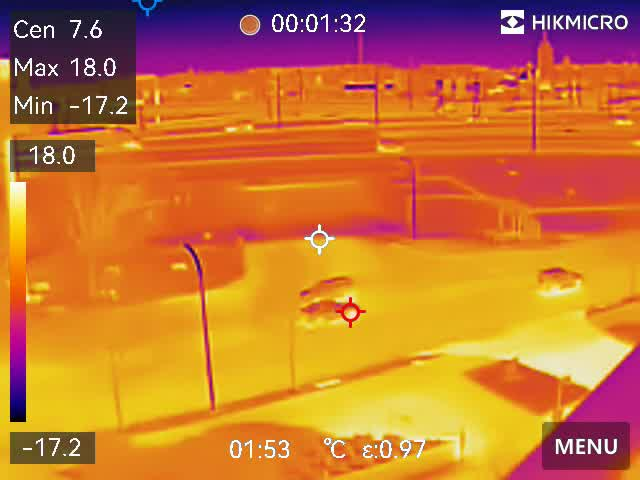heavyTruck: (10, 124, 159, 157)
smallCar: (296, 299, 364, 324), (534, 268, 586, 295)
vehicle: (292, 275, 355, 296), (369, 138, 408, 159), (218, 118, 259, 137), (610, 114, 634, 130)
